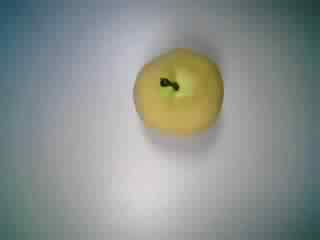pear: (123, 41, 231, 146)
